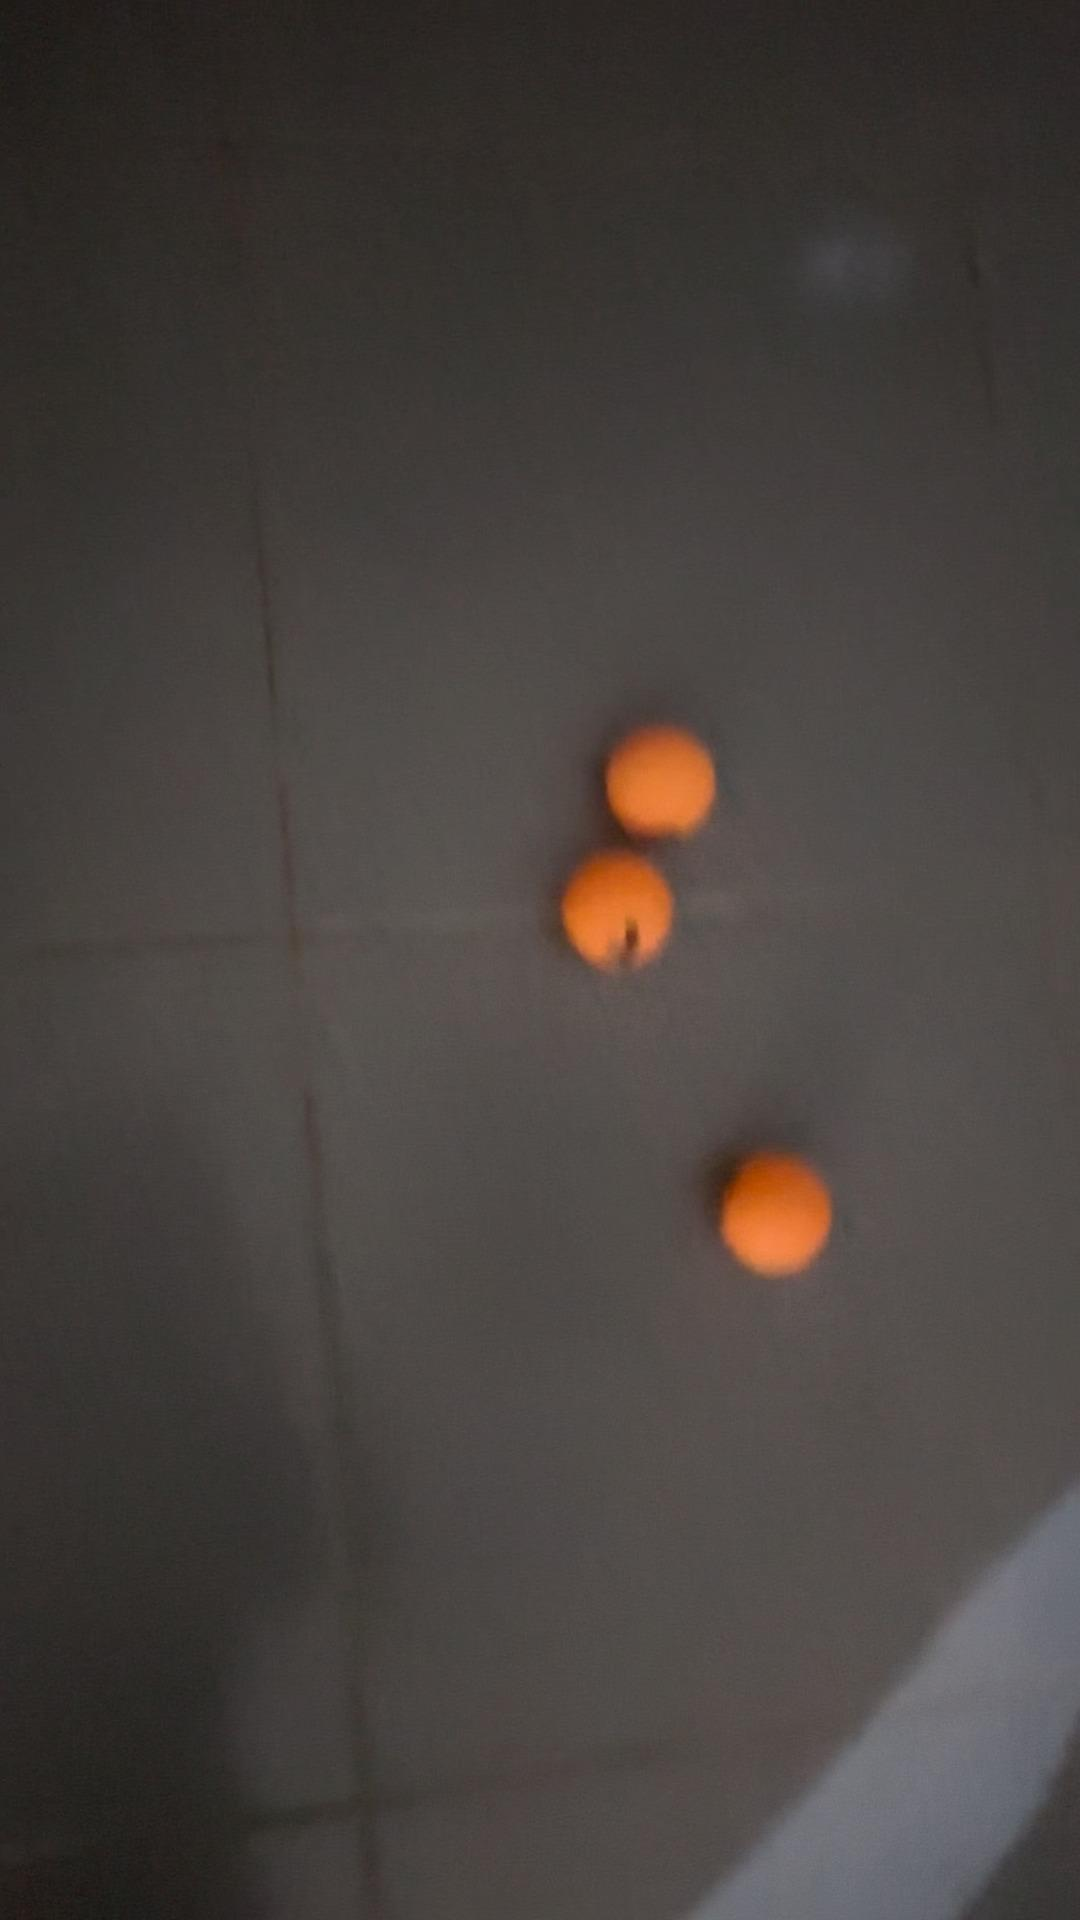oball: (541, 844, 682, 980), (708, 1147, 844, 1275), (601, 724, 728, 841)
